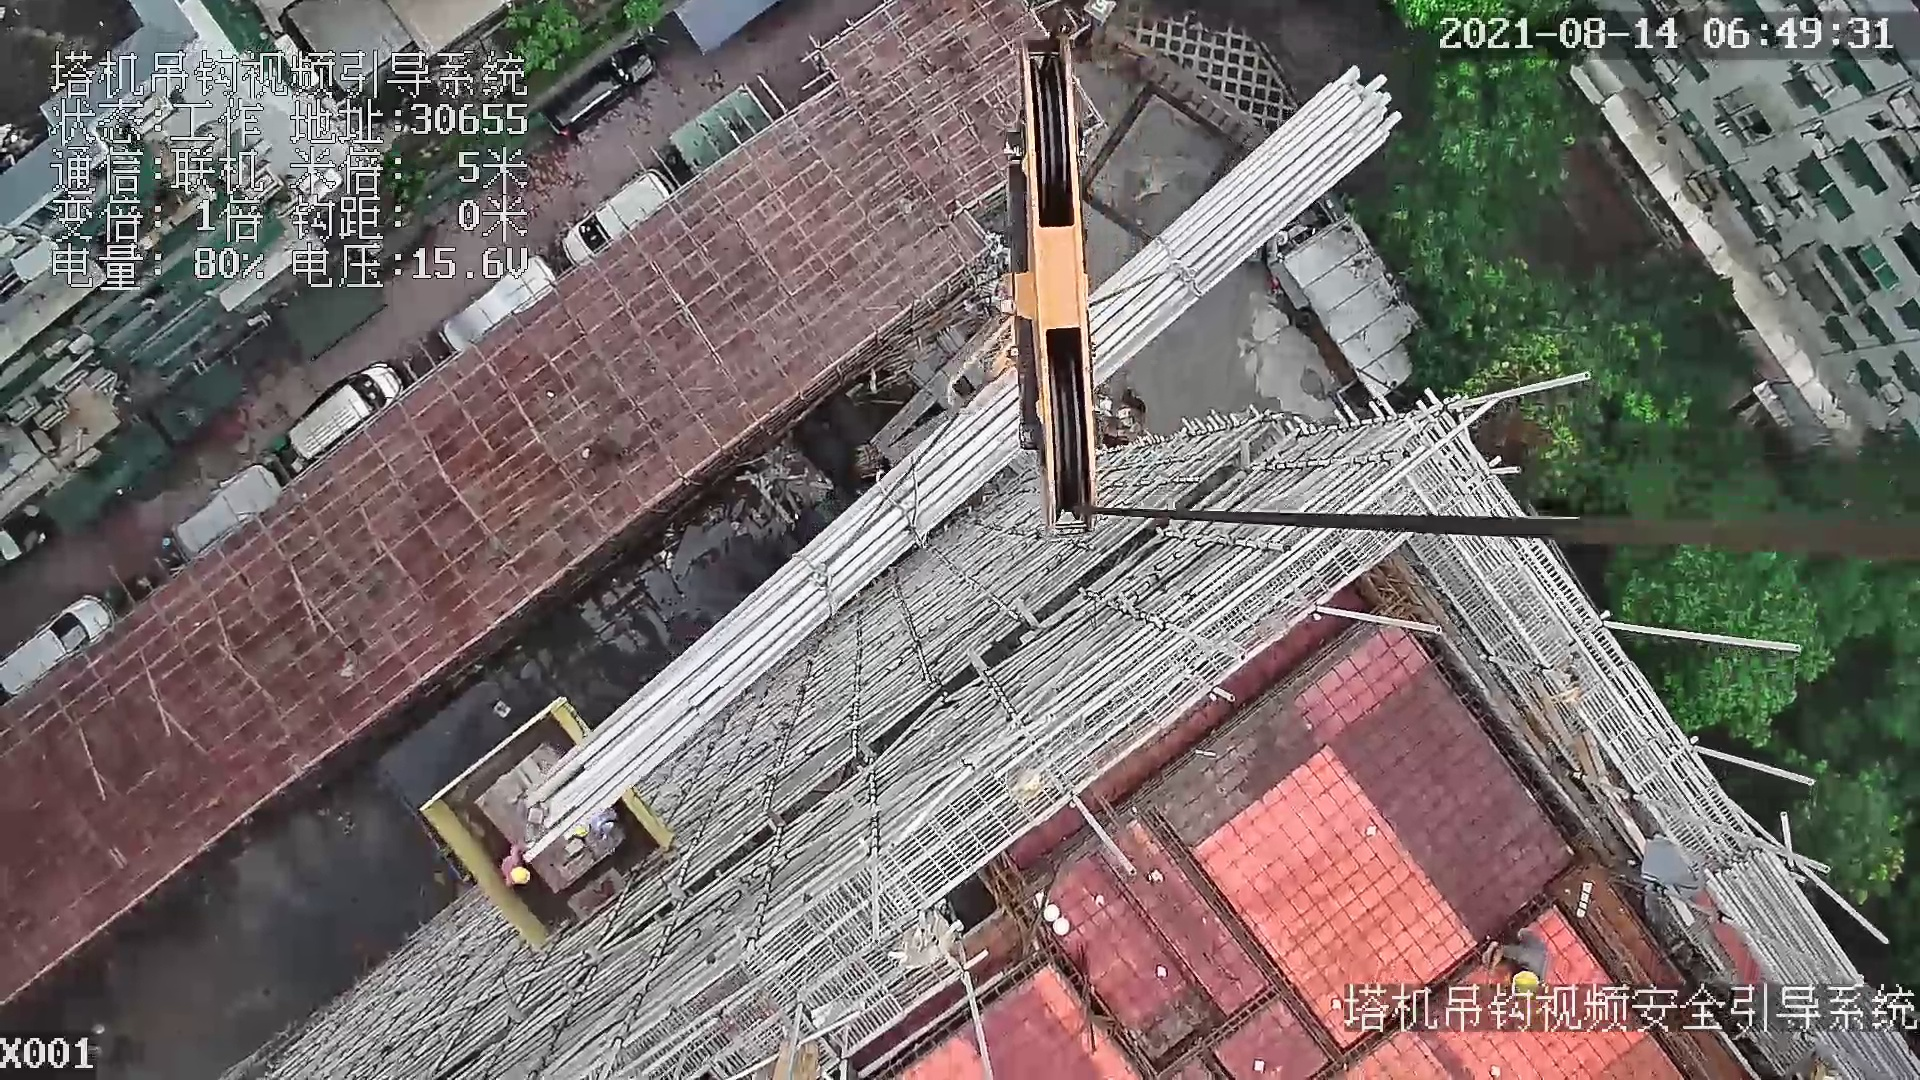helmet: (509, 865, 535, 893)
hook: (979, 26, 1105, 535)
person: (1477, 930, 1556, 997), (567, 819, 626, 864), (499, 841, 537, 891)
